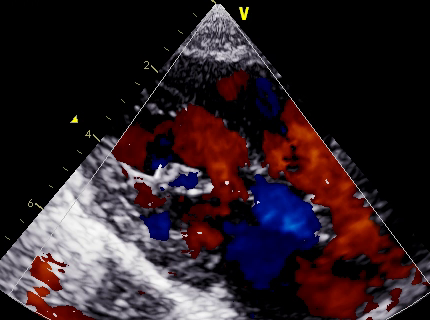AR: (163, 112, 297, 193)
